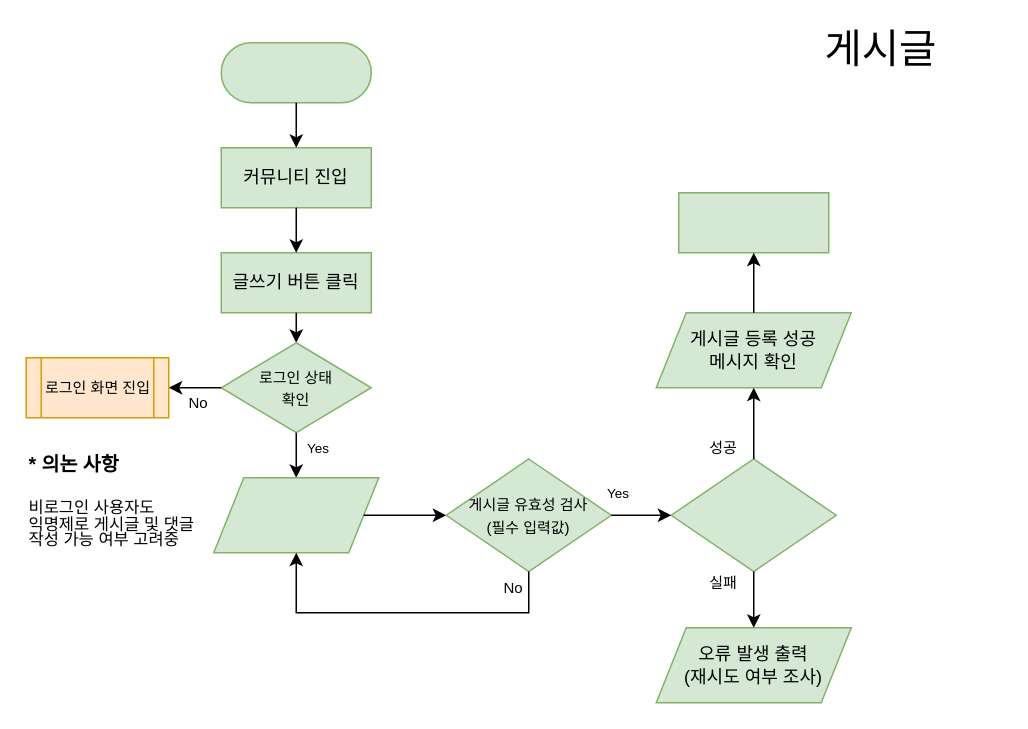
Some shapes in this 1028 by 729 pixel diagram are drawn without their labels. The box of each missing label's shape, as (x1, y1, x2, y2) in pixels:
게시글 / 댓글 작성: (220, 41, 371, 103)
게시글 상세 화면 이동: (677, 191, 829, 253)
등록 요청: (670, 458, 836, 572)
제목, 내용 입력: (212, 476, 379, 553)
